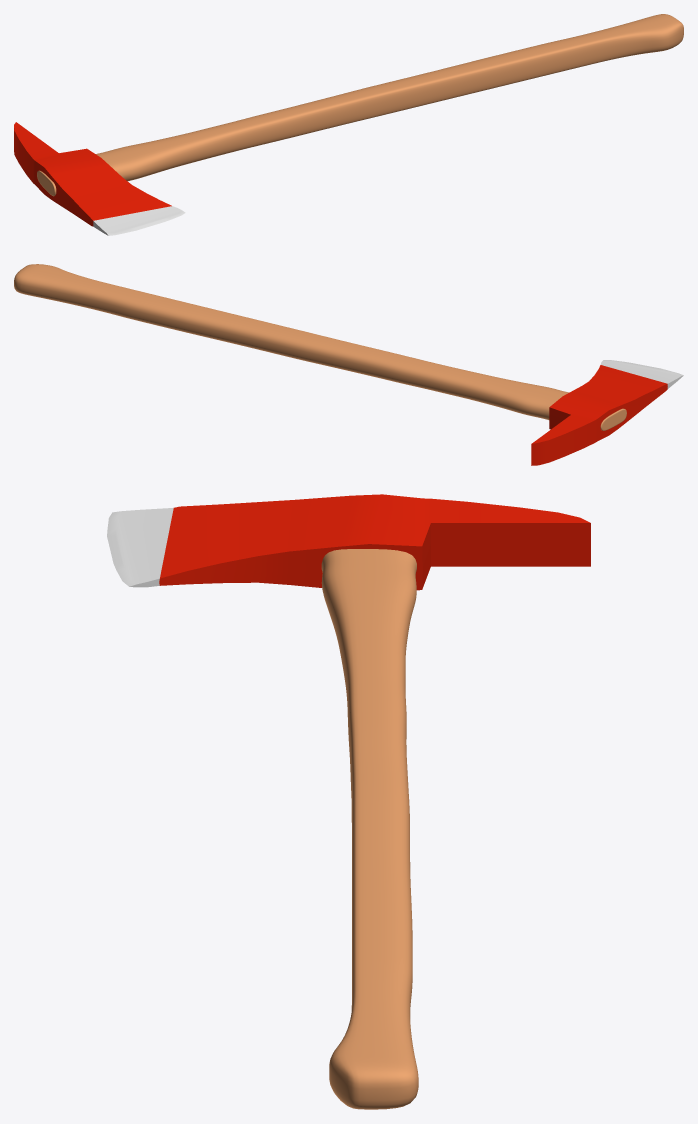
The model's file is axeExport-3.fbx.
The picture shows the model from 3 angles, top to bottom: view 1: azimuth 30°, elevation 25°; view 2: azimuth 150°, elevation 25°; view 3: azimuth 270°, elevation 25°; orthographic projection. The views are drawn at different scales.
Parts seen in each view (by area): view 1: Handle.002; view 2: Handle.002; view 3: Handle.002.
Part boxes in pixels (box(x1,y1,x2,y2)): Handle.002: box(14, 14, 683, 235); Handle.002: box(14, 264, 683, 465); Handle.002: box(107, 494, 590, 1109).
Bounding box in the file's own units: 2075 × 84.02 × 727.
